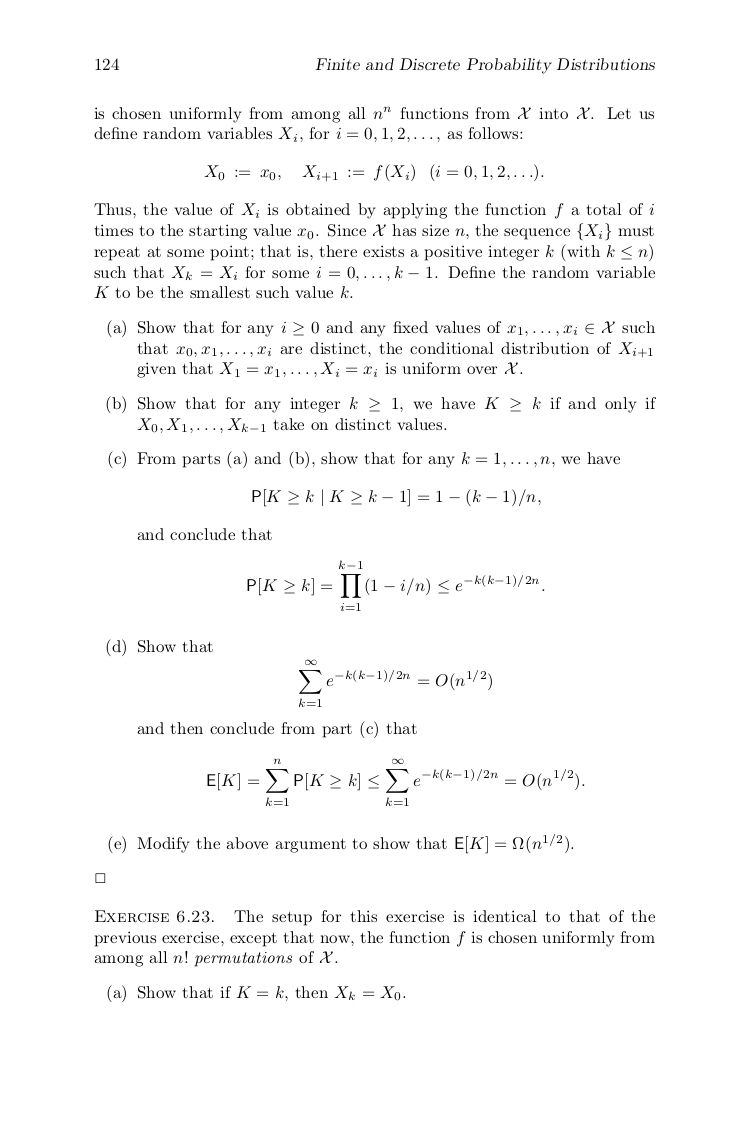formula: (207, 758, 584, 805), (247, 560, 544, 610), (299, 659, 491, 706), (204, 163, 543, 182), (252, 488, 540, 507)
